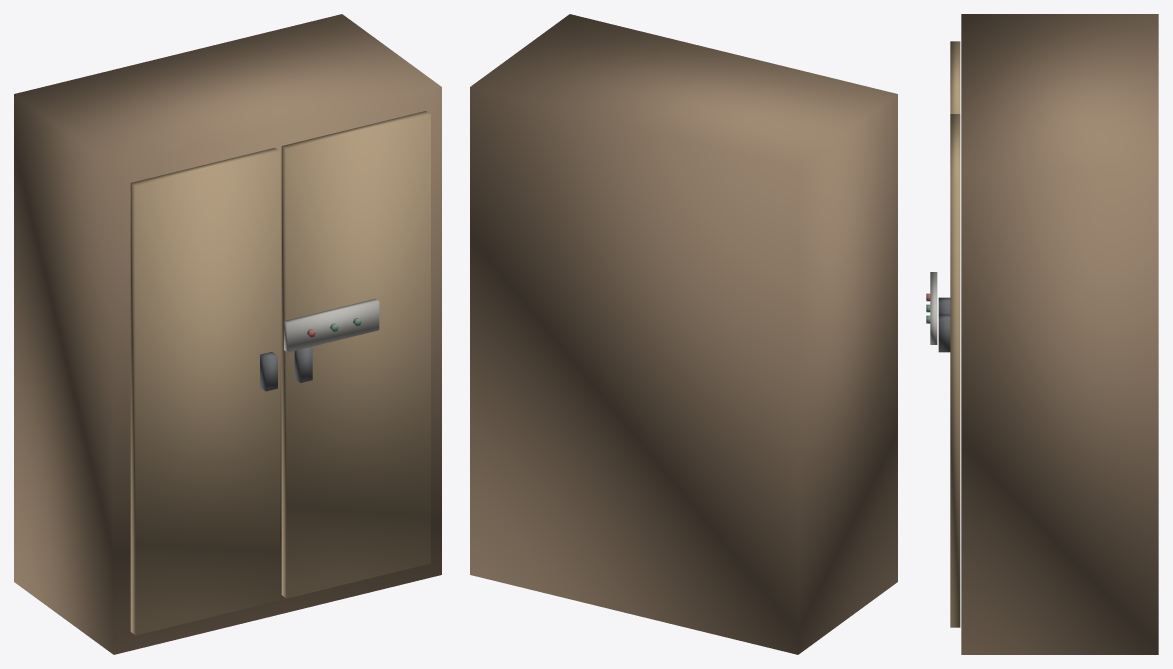
The model's file is map_cabinet.glb.
3 views of the same model, side by side, from view 1: azimuth 30°, elevation 25°; view 2: azimuth 150°, elevation 25°; view 3: azimuth 270°, elevation 25° (orthographic).
Parts seen in each view (by area): view 1: world; view 2: world; view 3: world.
Part boxes in pixels (x1,y1,x2,y2): world: (14,14,441,654); world: (470,14,897,654); world: (926,14,1158,654).
Size of the model in its own units: 0.95 by 1.35 by 0.5885.
